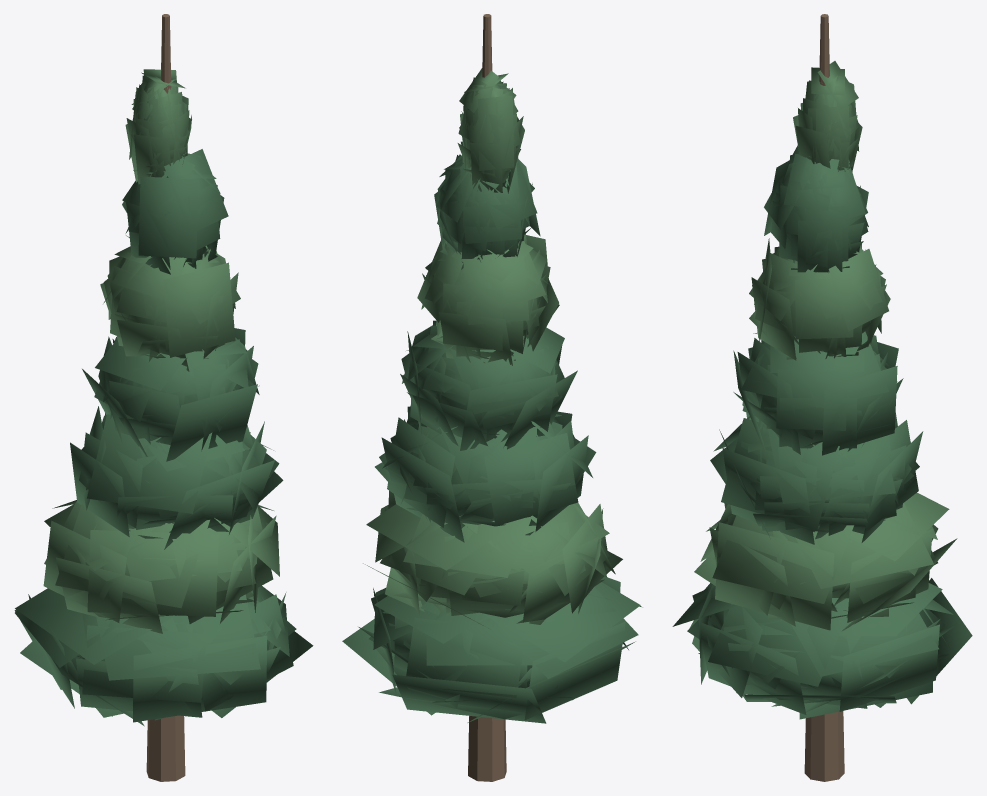
Rendered from DouglasFir.glb.
The picture shows the model from 3 angles, left to right: view 1: azimuth 30°, elevation 25°; view 2: azimuth 150°, elevation 25°; view 3: azimuth 270°, elevation 25°; orthographic projection.
Parts seen in each view (by area): view 1: Needle tier, Needle tier.001, Needle tier.002, Needle tier.003, Needle tier.004, Needle tier.005, Needle tier.006, Limb; view 2: Needle tier, Needle tier.001, Needle tier.002, Needle tier.003, Needle tier.004, Needle tier.005, Needle tier.006, Limb; view 3: Needle tier, Needle tier.001, Needle tier.002, Needle tier.003, Needle tier.004, Needle tier.005, Needle tier.006, Limb.
Part boxes in pixels (x1,y1,x2,y2): Needle tier: [14, 585, 313, 726]; Needle tier.001: [43, 500, 279, 633]; Needle tier.002: [70, 406, 283, 549]; Needle tier.003: [82, 328, 259, 461]; Needle tier.004: [100, 245, 240, 371]; Needle tier.005: [122, 149, 228, 274]; Needle tier.006: [125, 69, 191, 184]; Limb: [146, 14, 185, 781]; Needle tier: [342, 576, 642, 723]; Needle tier.001: [363, 490, 622, 628]; Needle tier.002: [375, 406, 596, 542]; Needle tier.003: [400, 320, 577, 450]; Needle tier.004: [417, 234, 559, 365]; Needle tier.005: [434, 141, 540, 269]; Needle tier.006: [457, 68, 524, 193]; Limb: [468, 14, 506, 781]; Needle tier: [672, 578, 972, 719]; Needle tier.001: [694, 492, 957, 631]; Needle tier.002: [710, 413, 923, 544]; Needle tier.003: [733, 331, 903, 455]; Needle tier.004: [749, 238, 890, 360]; Needle tier.005: [764, 145, 868, 272]; Needle tier.006: [793, 61, 862, 171]; Limb: [804, 14, 844, 781].
Size of the model in its own units: 4.23 by 12.48 by 4.48.
